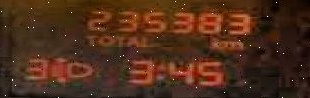2: (83, 8, 109, 30)
3: (125, 59, 151, 84), (169, 9, 194, 33), (225, 11, 250, 34), (22, 56, 47, 79), (112, 9, 136, 30)
4: (165, 61, 192, 82)
5: (194, 60, 218, 84), (140, 9, 165, 32)
8: (196, 12, 221, 33)
X: (138, 34, 154, 48), (111, 33, 125, 48), (223, 39, 245, 48), (96, 34, 111, 45), (82, 33, 96, 44), (154, 64, 163, 80), (125, 34, 136, 47), (210, 37, 221, 48)
